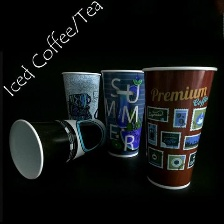paper_cup: (139, 60, 220, 194), (3, 112, 111, 182), (96, 65, 154, 160), (59, 66, 104, 141)
